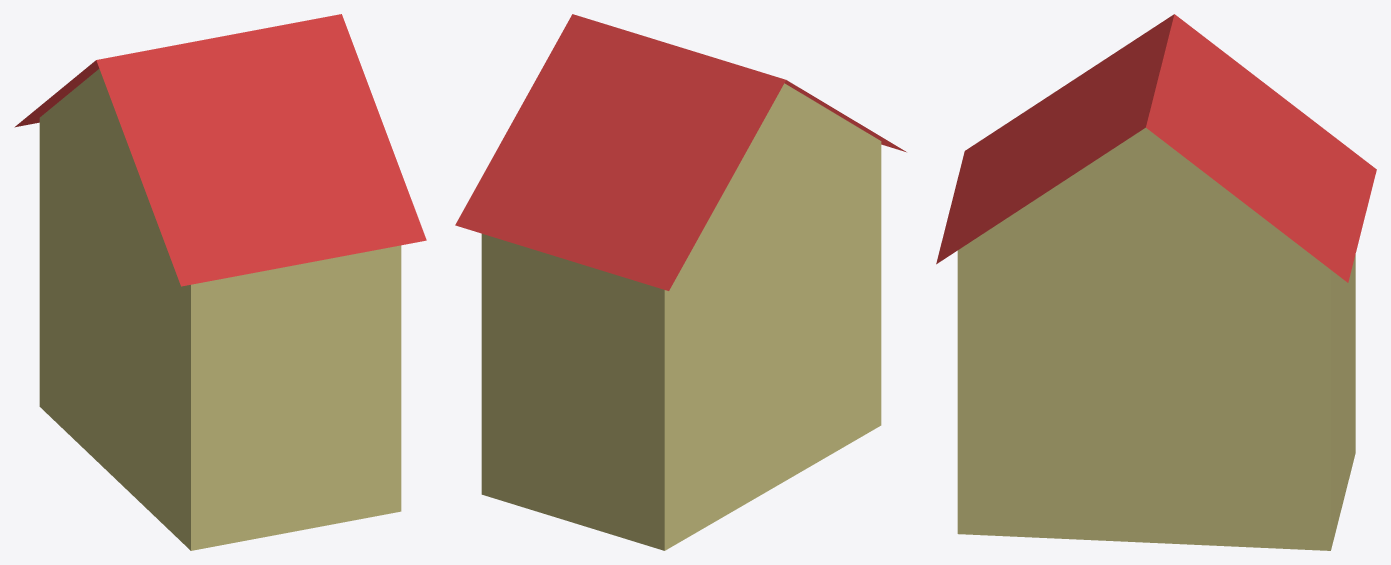
3 renders of one model, left to right at view 1: azimuth 30°, elevation 25°; view 2: azimuth 150°, elevation 25°; view 3: azimuth 270°, elevation 25°, orthographic. The views are drawn at different scales.
Size of the model in its own units: 8.03 by 11.32 by 11.99.
